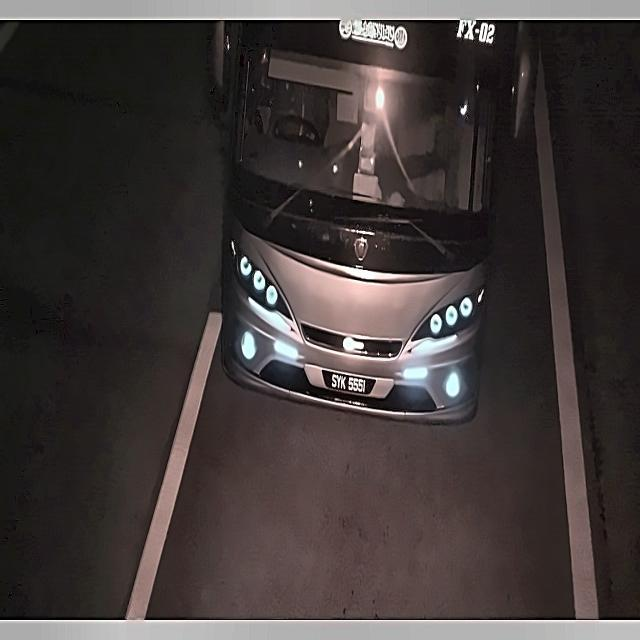car: (322, 364, 372, 401)
